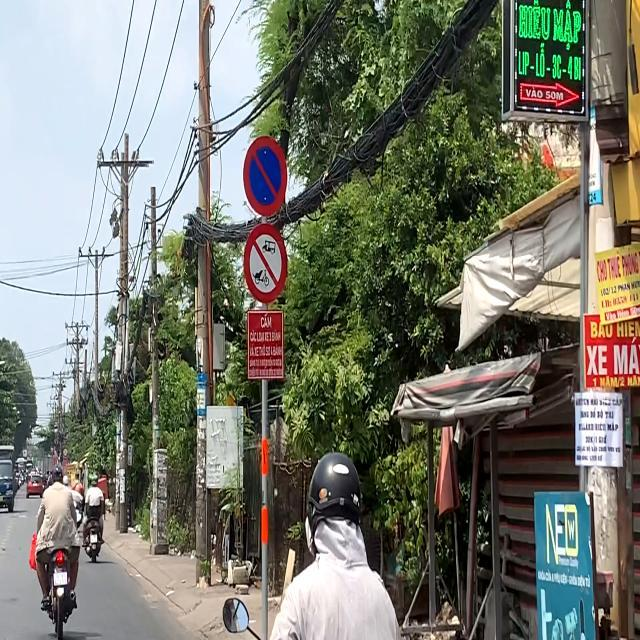P-131a: (244, 134, 286, 217)
